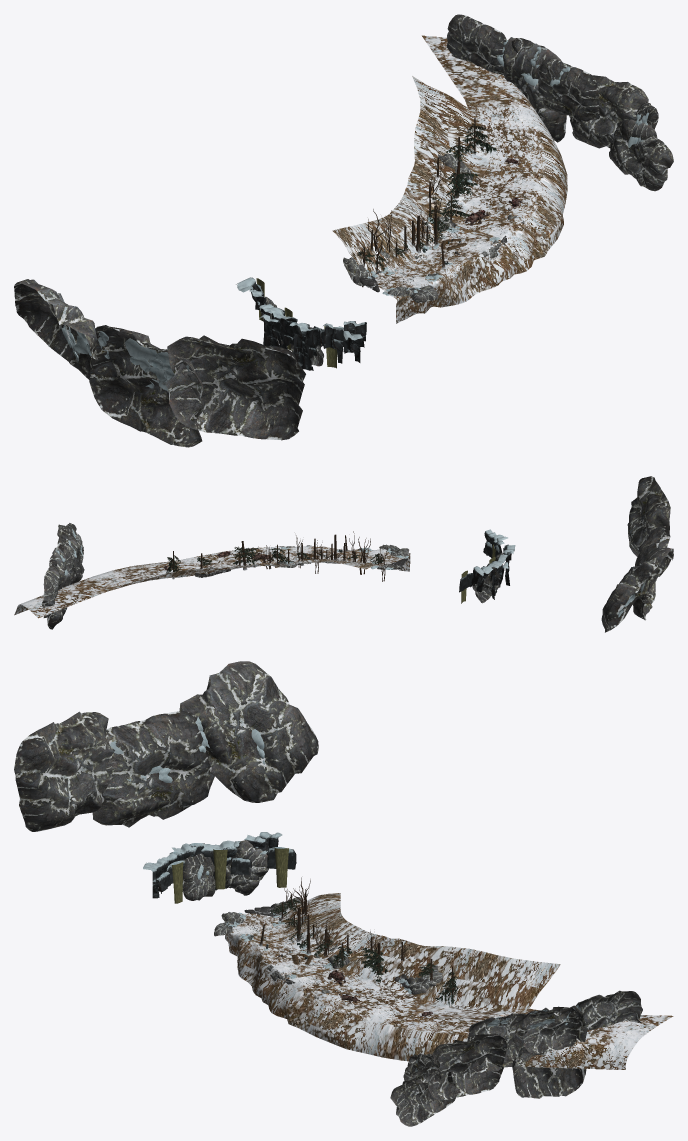
File: env_kal_forest_pre.glb
3 views of the same model, one above another, from view 1: azimuth 30°, elevation 25°; view 2: azimuth 150°, elevation 25°; view 3: azimuth 270°, elevation 25° (orthographic). The views are drawn at different scales.
Visible parts, largest first — view 1: kal_forest_ground, kal_forest_rock_wall_04 (7), kal_forest_rock_wall_04 (8), kal_forest_rock_wall_04 (9), kal_forest_rock_wall_04 (5), kal_forest_rock_wall_04 (6), kal_forest_rock_wall_04 (1), kal_forest_rock_wall_04 (3), kal_forest_rock_wall_04 (10), kash_flora_moss_mounds_01b (6), kal_forest_rock_wall_02 (2), kal_forest_rock_wall_04 (2); view 2: kal_forest_ground, kal_forest_rock_wall_04 (7), kal_forest_rock_wall_04 (9), kal_forest_rock_wall_04 (8), kal_forest_rock_wall_04 (3), kal_forest_rock_wall_04 (1), kal_forest_rock_wall_04 (5), kal_forest_rock_wall_04 (20), kal_forest_rock_wall_04 (6), kal_for_rock_wall_01 (16), kal_forest_rock_wall_02 (1); view 3: kal_forest_ground, kal_forest_rock_wall_04 (9), kal_forest_rock_wall_04 (8), kal_forest_rock_wall_04 (7), kal_forest_rock_wall_04 (6), kal_forest_rock_wall_04 (1), kal_forest_rock_wall_04 (19), kal_forest_rock_wall_04 (3), kal_forest_rock_wall_04 (10), kal_forest_rock_wall_04 (5), kal_forest_rock_wall_04 (20), kal_forest_rock_wall_04 (24) (+1 smaller).
Boxes of the visible parts, x1=… form: kal_forest_ground: x1=332, y1=35, x2=567, y2=323; kal_forest_rock_wall_04 (7): x1=165, y1=335, x2=305, y2=440; kal_forest_rock_wall_04 (8): x1=89, y1=325, x2=204, y2=447; kal_forest_rock_wall_04 (9): x1=14, y1=279, x2=98, y2=379; kal_forest_rock_wall_04 (5): x1=538, y1=58, x2=599, y2=123; kal_forest_rock_wall_04 (6): x1=570, y1=75, x2=648, y2=148; kal_forest_rock_wall_04 (1): x1=503, y1=37, x2=566, y2=142; kal_forest_rock_wall_04 (3): x1=446, y1=14, x2=506, y2=75; kal_forest_rock_wall_04 (10): x1=609, y1=120, x2=673, y2=191; kash_flora_moss_mounds_01b (6): x1=125, y1=338, x2=189, y2=390; kal_forest_rock_wall_02 (2): x1=289, y1=322, x2=319, y2=370; kal_forest_rock_wall_04 (2): x1=626, y1=119, x2=657, y2=167; kal_forest_ground: x1=14, y1=546, x2=410, y2=618; kal_forest_rock_wall_04 (7): x1=627, y1=476, x2=670, y2=576; kal_forest_rock_wall_04 (9): x1=601, y1=547, x2=673, y2=632; kal_forest_rock_wall_04 (8): x1=633, y1=526, x2=665, y2=620; kal_forest_rock_wall_04 (3): x1=41, y1=563, x2=61, y2=617; kal_forest_rock_wall_04 (1): x1=47, y1=546, x2=70, y2=629; kal_forest_rock_wall_04 (5): x1=63, y1=533, x2=78, y2=580; kal_forest_rock_wall_04 (20): x1=472, y1=563, x2=500, y2=603; kal_forest_rock_wall_04 (6): x1=57, y1=524, x2=77, y2=584; kal_for_rock_wall_01 (16): x1=470, y1=566, x2=492, y2=592; kal_forest_rock_wall_02 (1): x1=491, y1=554, x2=507, y2=599; kal_forest_ground: x1=225, y1=893, x2=673, y2=1069; kal_forest_rock_wall_04 (9): x1=179, y1=661, x2=318, y2=802; kal_forest_rock_wall_04 (8): x1=92, y1=711, x2=214, y2=827; kal_forest_rock_wall_04 (7): x1=14, y1=711, x2=114, y2=831; kal_forest_rock_wall_04 (6): x1=428, y1=1034, x2=507, y2=1099; kal_forest_rock_wall_04 (1): x1=512, y1=1005, x2=587, y2=1098; kal_forest_rock_wall_04 (19): x1=522, y1=1006, x2=578, y2=1053; kal_forest_rock_wall_04 (3): x1=573, y1=990, x2=642, y2=1030; kal_forest_rock_wall_04 (10): x1=390, y1=1063, x2=455, y2=1126; kal_forest_rock_wall_04 (5): x1=467, y1=1013, x2=533, y2=1072; kal_forest_rock_wall_04 (20): x1=225, y1=840, x2=269, y2=895; kal_forest_rock_wall_04 (24): x1=182, y1=853, x2=215, y2=900.
Size of what is drawn, in the model's own units: 380 by 73.62 by 319.
Materials: 18 (18 with a texture image).
